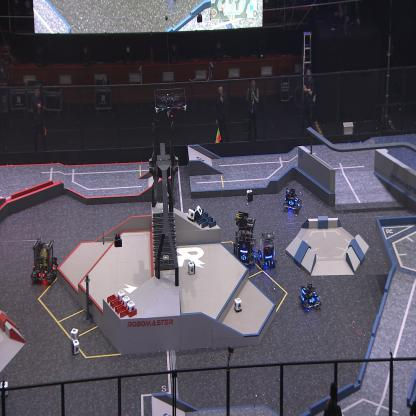car: (233, 210, 257, 269), (31, 237, 58, 283), (298, 280, 321, 311), (256, 233, 276, 267), (283, 185, 302, 214)
